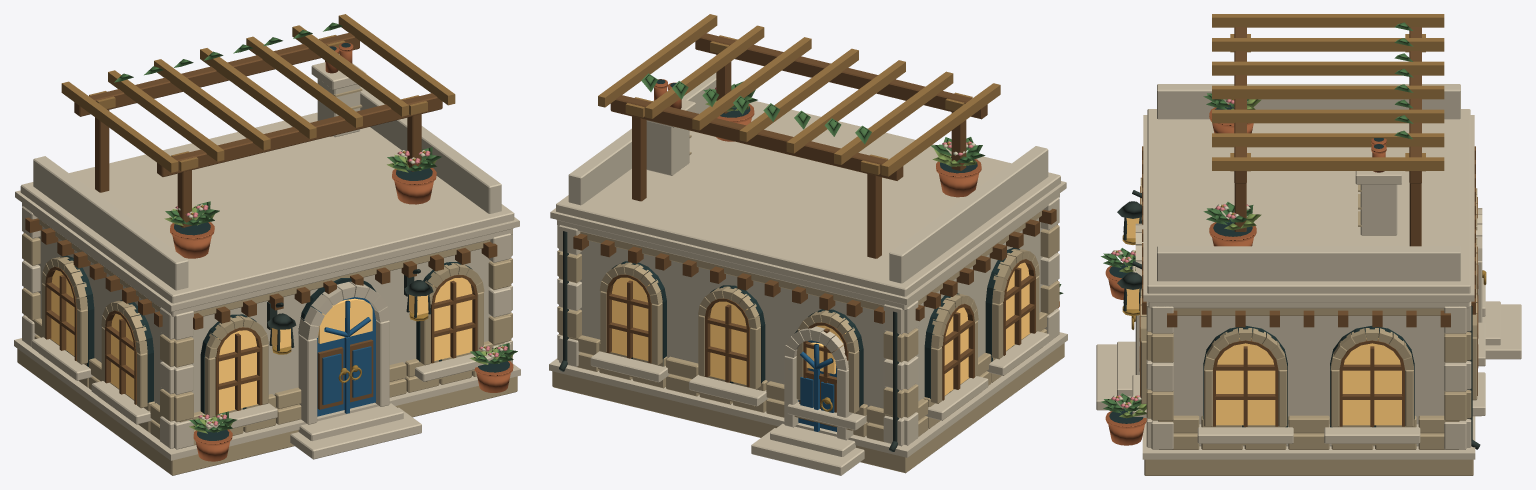
The picture shows the model from 3 angles, left to right: view 1: azimuth 30°, elevation 25°; view 2: azimuth 150°, elevation 25°; view 3: azimuth 270°, elevation 25°; orthographic projection. The views are drawn at different scales.
Parts seen in each view (by area): view 1: harbor_tower_1_geometry; view 2: harbor_tower_1_geometry; view 3: harbor_tower_1_geometry.
Boxes of the visible parts, bbox=[...] form: harbor_tower_1_geometry: bbox=[14, 14, 520, 475]; harbor_tower_1_geometry: bbox=[549, 14, 1067, 475]; harbor_tower_1_geometry: bbox=[1096, 14, 1521, 475].
Size of the model in its own units: 0.99 by 0.7613 by 0.9372.
